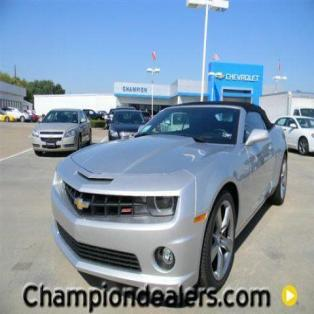Auto: (49, 101, 289, 292)
